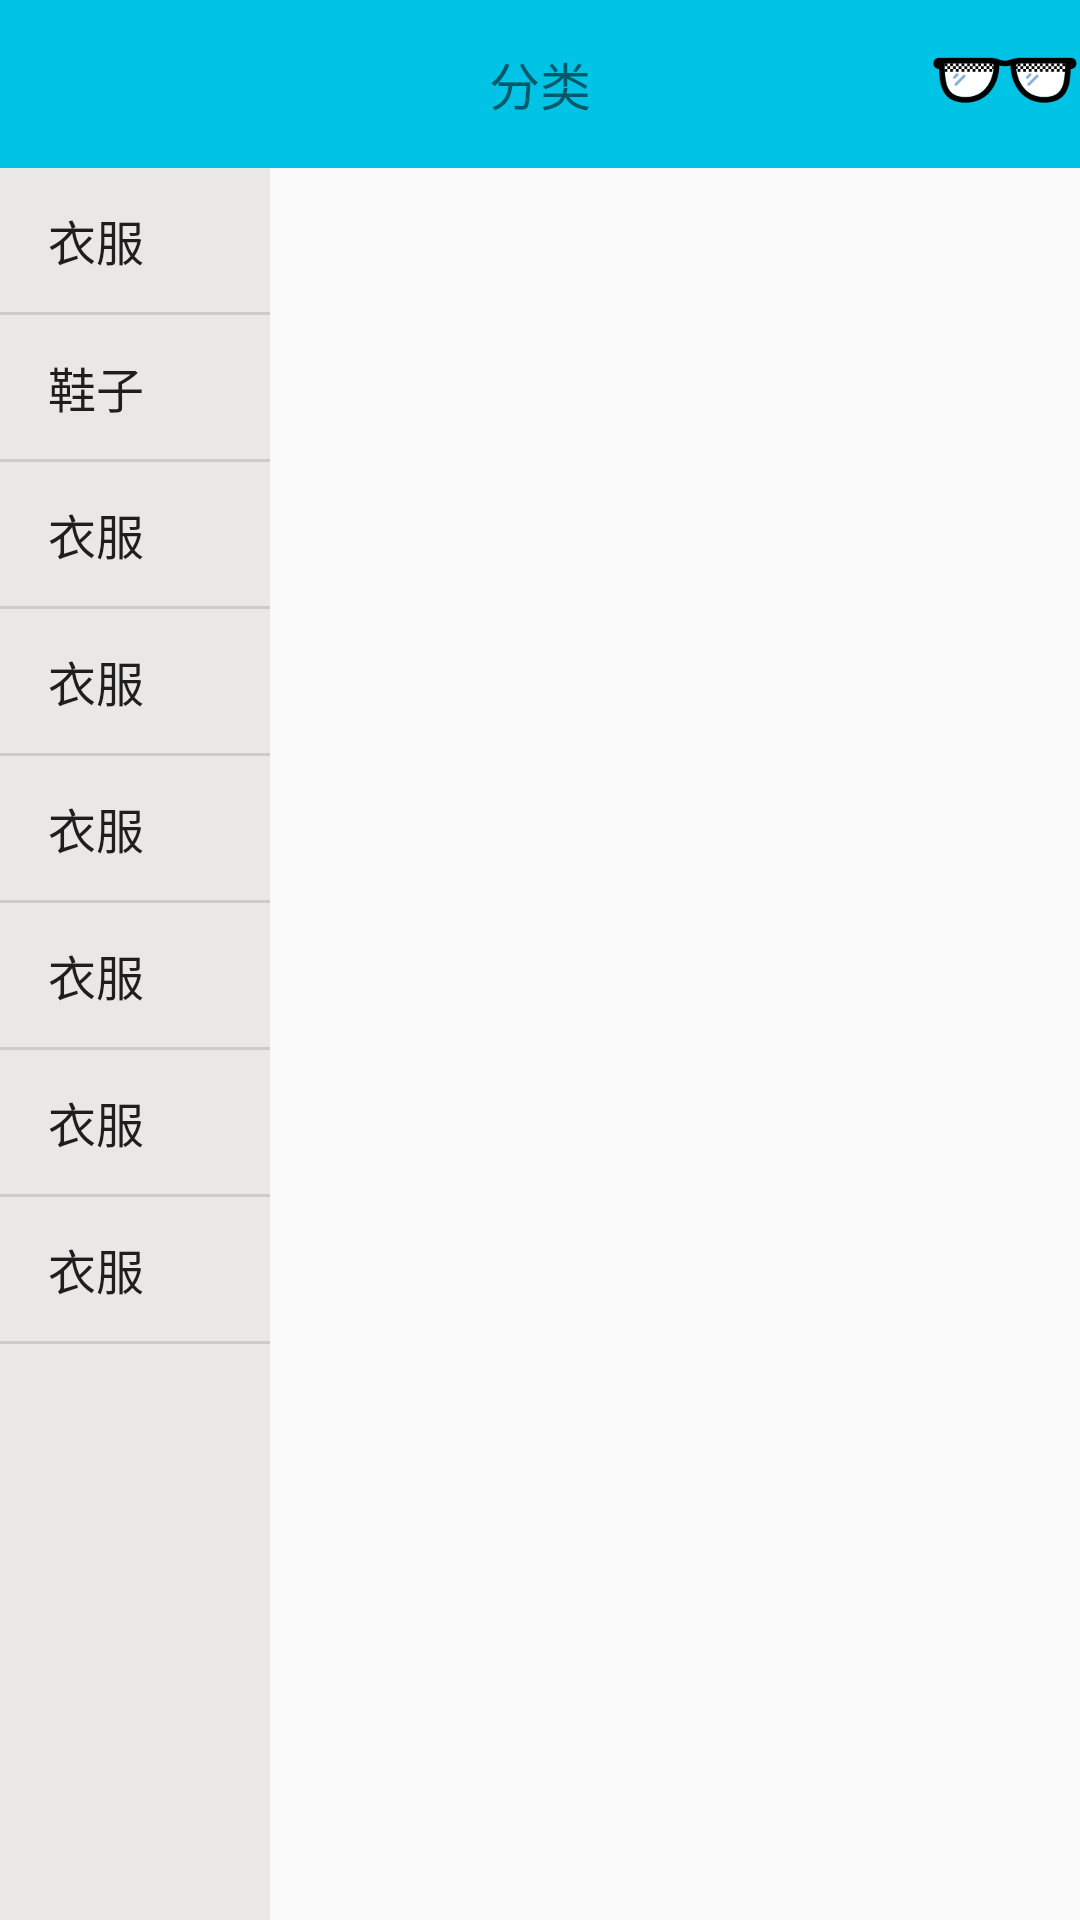

Icons on this 1080×1920 Android screen, each with the point to tap as [x,y]:
glass: [1005,80]
